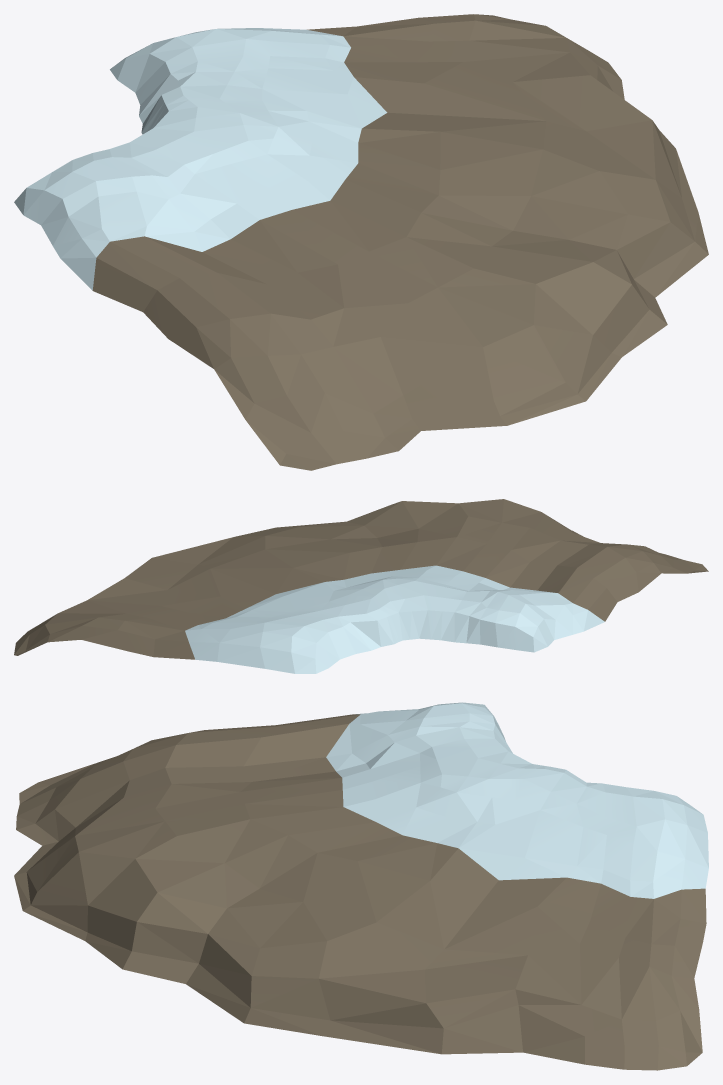
Rendered from Playa_Larga02.glb.
The picture shows the model from 3 angles, top to bottom: view 1: azimuth 30°, elevation 25°; view 2: azimuth 150°, elevation 25°; view 3: azimuth 270°, elevation 25°; orthographic projection. The views are drawn at different scales.
Parts seen in each view (by area): view 1: SM_Env_Beach_Long_02_Snow; view 2: SM_Env_Beach_Long_02_Snow; view 3: SM_Env_Beach_Long_02_Snow.
Boxes of the visible parts, box(x1,y1,x2,y2) form: SM_Env_Beach_Long_02_Snow: box(14, 14, 708, 470); SM_Env_Beach_Long_02_Snow: box(14, 499, 708, 673); SM_Env_Beach_Long_02_Snow: box(14, 702, 708, 1070).
Bounding box in the file's own units: 22.06 × 3.69 × 22.28.
1 material, 1 textured.
